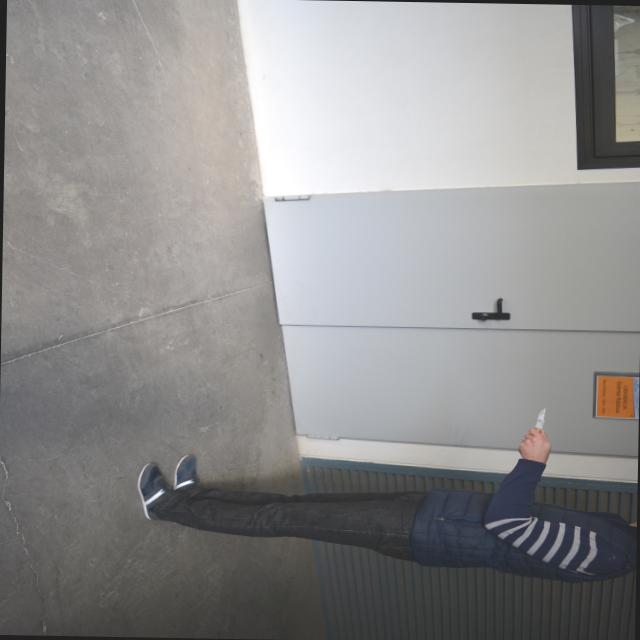knife: (529, 404, 551, 436)
